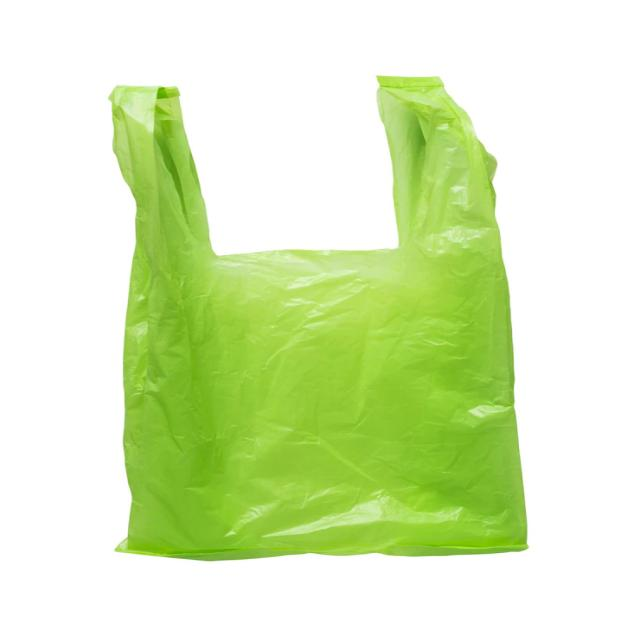plastic_bag: (72, 53, 573, 565)
